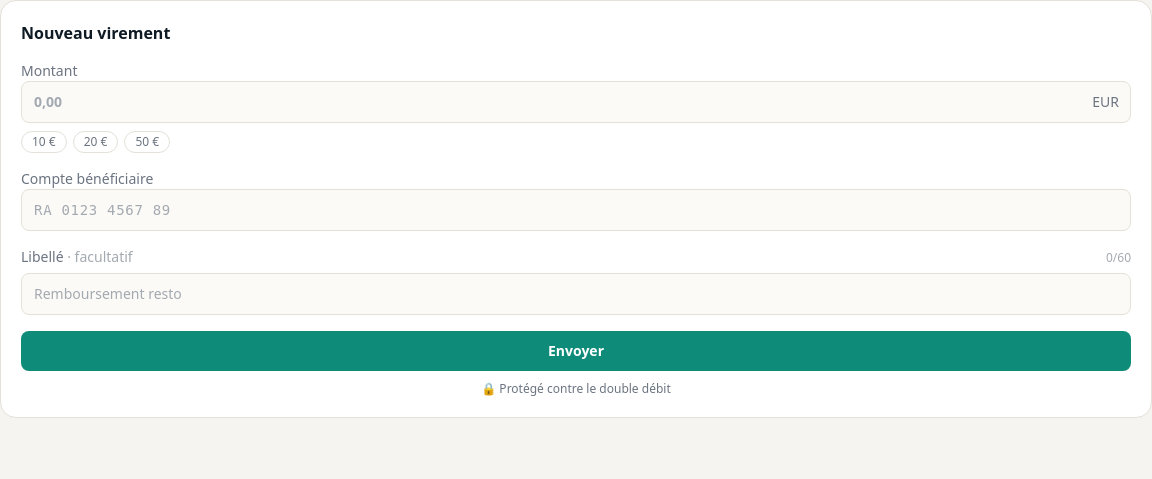
Test: TransferForm : validation › refuse un compte mal formé et un montant au-delà du plafond
Type "10 000,01" into the field labelled "Montant EUR" at point(576, 102), box [21,81,1131,123]
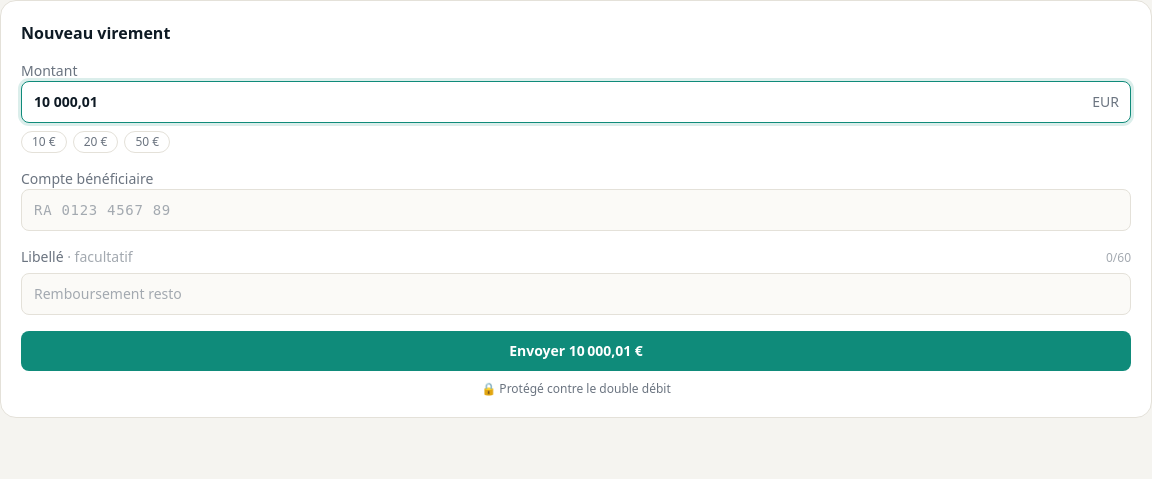
Type "FR12 3456 7890" into the field labelled "Compte bénéficiaire" at point(576, 210), box [21,189,1131,231]
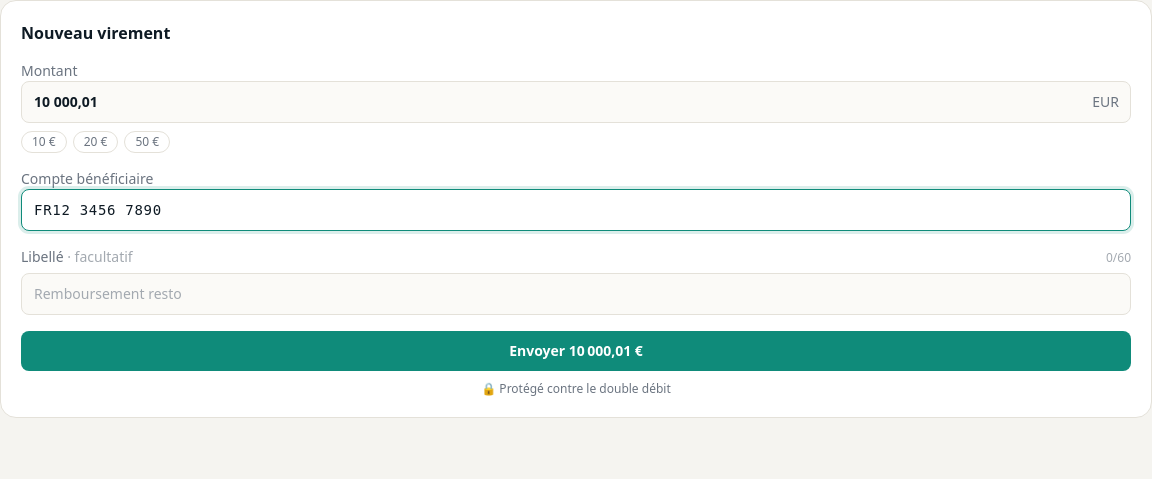
Click the button "Envoyer 10 000,01 €" at point(576, 351), box [21,331,1131,371]
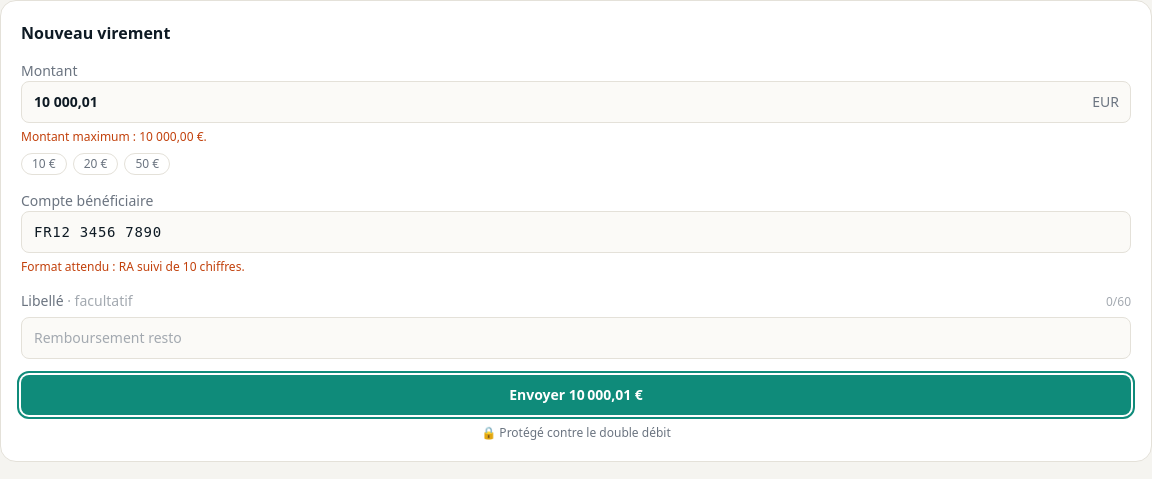
Expected: the text "Montant maximum : 10 000,00 €." is shown, [21,128,207,145]
Expected: the text "Format attendu : RA suivi de 10 chiffres." is shown, [21,258,245,275]
